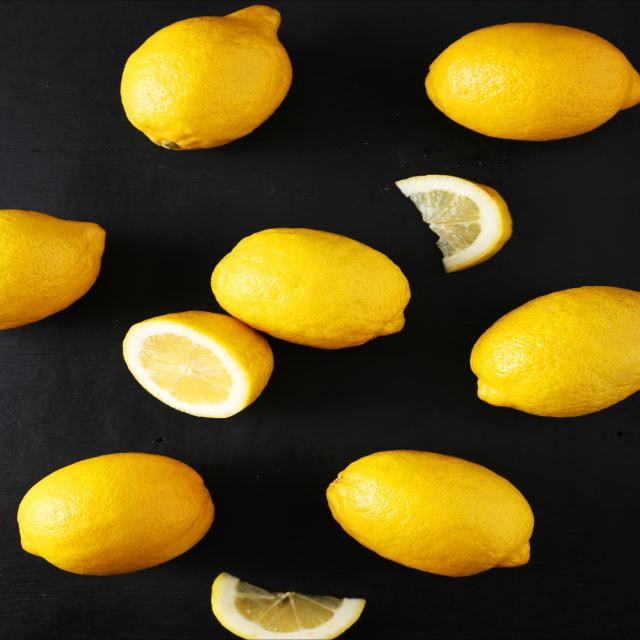lemon: (322, 446, 540, 583), (204, 225, 415, 353)
